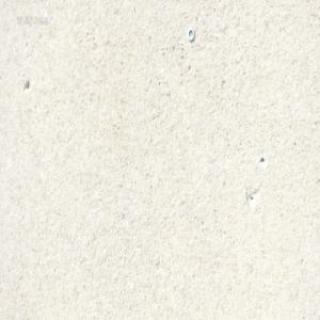Washertrack_idkeyframe: (186, 26, 194, 41)
